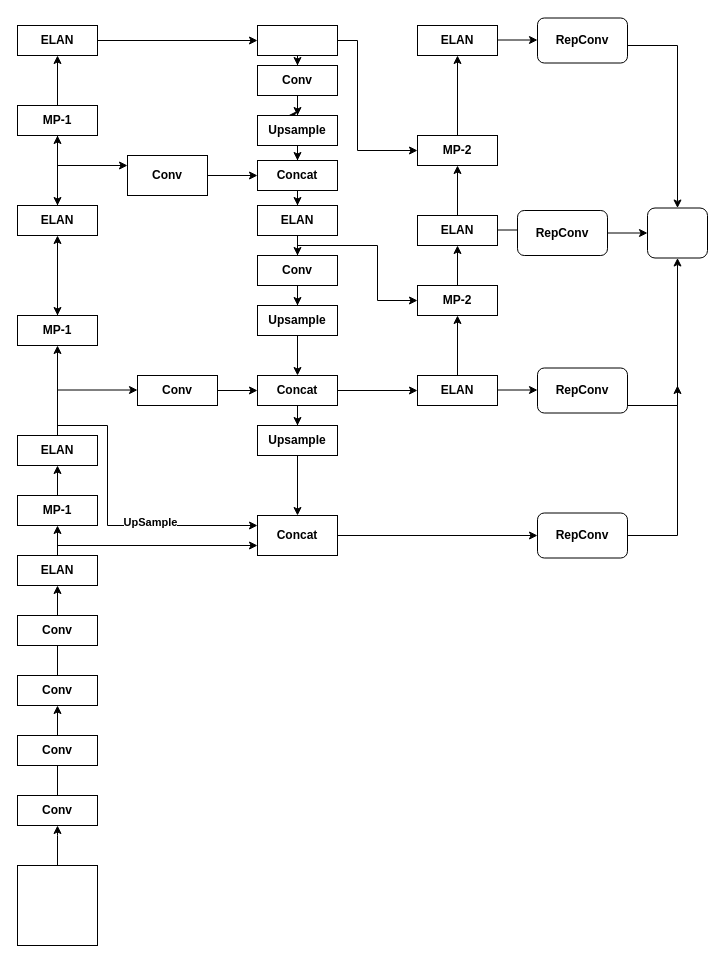
The diagram is 725 pixels wide and 963 high, and some of its shapes have lost their labels. The centre of each missing label's shape, as x and y in pixels:
IDetect: (677,232)
images: (57,905)
SPPCSPC: (297,40)
